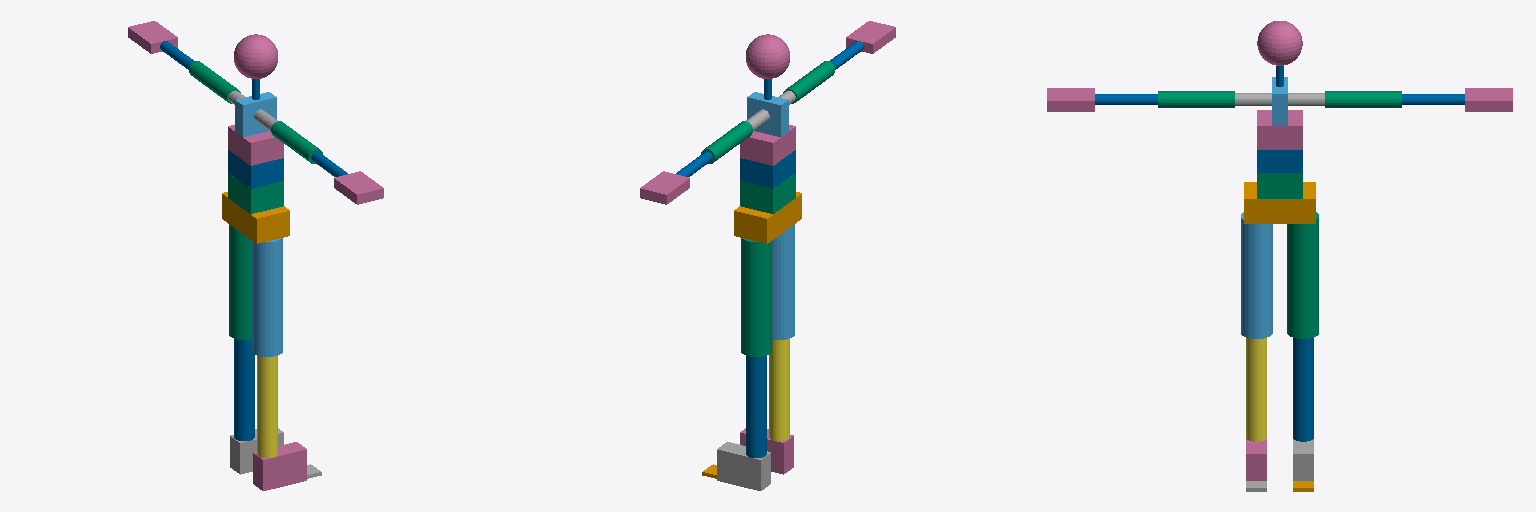
--- Facts derived from the render (not from the file) ---
The picture shows the robot from 3 angles, left to right: view 1: azimuth 30°, elevation 25°; view 2: azimuth 150°, elevation 25°; view 3: azimuth 270°, elevation 25°; orthographic projection.
Robot: XSensStyleModel_template — 49 links, 48 joints (48 revolute); root link Pelvis; default pose: every joint at zero.
Links seen in each view (by area): view 1: RightUpperLeg, LeftUpperLeg, RightLowerLeg, LeftLowerLeg, RightFoot, Pelvis, Head, T12, L5, L3, T8, RightHand (+4 smaller); view 2: LeftUpperLeg, RightUpperLeg, LeftLowerLeg, RightLowerLeg, LeftFoot, Pelvis, Head, T12, L5, L3, T8, LeftHand (+4 smaller); view 3: RightUpperLeg, LeftUpperLeg, Pelvis, RightLowerLeg, LeftLowerLeg, Head, T12, RightUpperArm, LeftUpperArm, L5, RightHand, LeftHand (+6 smaller).
Boxes of the visible links, <box> form: RightUpperLeg: <box>252,238,282,356</box>; LeftUpperLeg: <box>229,224,251,339</box>; RightLowerLeg: <box>257,356,277,457</box>; LeftLowerLeg: <box>234,339,254,440</box>; RightFoot: <box>253,442,306,490</box>; Pelvis: <box>222,192,289,243</box>; Head: <box>234,34,277,78</box>; T12: <box>228,125,283,165</box>; L5: <box>228,173,283,213</box>; L3: <box>228,150,283,188</box>; T8: <box>235,92,276,136</box>; RightHand: <box>334,171,383,204</box>; LeftUpperLeg: <box>741,238,771,356</box>; RightUpperLeg: <box>772,224,794,339</box>; LeftLowerLeg: <box>746,356,766,457</box>; RightLowerLeg: <box>769,339,789,440</box>; LeftFoot: <box>717,442,770,490</box>; Pelvis: <box>734,192,801,243</box>; Head: <box>746,34,789,78</box>; T12: <box>740,125,795,165</box>; L5: <box>740,173,795,213</box>; L3: <box>740,150,795,188</box>; T8: <box>747,92,788,136</box>; LeftHand: <box>640,171,689,204</box>; RightUpperLeg: <box>1241,212,1272,338</box>; LeftUpperLeg: <box>1287,212,1318,338</box>; Pelvis: <box>1244,182,1315,223</box>; RightLowerLeg: <box>1246,338,1266,441</box>; LeftLowerLeg: <box>1293,338,1313,441</box>; Head: <box>1257,21,1302,65</box>; T12: <box>1257,110,1302,149</box>; RightUpperArm: <box>1158,91,1234,107</box>; LeftUpperArm: <box>1325,91,1401,107</box>; L5: <box>1257,173,1302,198</box>; RightHand: <box>1047,88,1094,111</box>; LeftHand: <box>1465,88,1512,111</box>.
Size in the robot's own frame: 0.28 by 1.63 by 1.73 metres.
Geometry: primitives only (box / cylinder / sphere), no mesh files.

URDF robot description (XSensStyleModel_template):
<robot name="XSensStyleModel_template">
<!--To open this model with Gazebo replace the null masses, inertias and dimensions of the 'fake links f1 and f2'-->
    <!--LINKS-->
	<!--Link base (1)-->
	<link name="Pelvis">
        <inertial>
            <mass value="4.88"/>
			<!--COM origin wrt pHipOrigin-->
            <origin xyz="0           0    0.050194" rpy="0 0 0" />
            <inertia ixx="0.029296" iyy="0.011839" izz="0.033081" ixy="0" ixz="0" iyz="0"/>
        </inertial>

        <visual>
			<!--box origin wrt pHipOrigin-->
            <origin xyz="0           0    0.050194" rpy="0 0 0" />
            <geometry>
                <box size="0.1386     0.24927    0.099515"/>
            </geometry>
        </visual>

        <collision>
			<!--box origin wrt pHipOrigin-->
            <origin xyz="0           0    0.050194" rpy="0 0 0" />
            <geometry>
                <box size="0.1386     0.24927    0.099515"/>
            </geometry>
        </collision>

    </link>
    <!--Chain from (2) to (7)-->
	<link name="L5_f1">
        <inertial>
            <mass value="0"/>
            <origin xyz="0 0 0" rpy="0 0 0" />
            <inertia ixx="0" iyy="0" izz="0" ixy="0" ixz="0" iyz="0"/>
        </inertial>
    </link>
	<link name="L5">
        <inertial>
            <mass value="6.222"/>
			<!--COM origin wrt jL5S1-->
            <origin xyz="0           0     0.04987" rpy="0 0 0" />
            <inertia ixx="0.019063" iyy="0.015119" izz="0.0002671" ixy="0" ixz="0" iyz="0"/>
        </inertial>

        <visual>
			<!--box origin origin wrt jL5S1-->
            <origin xyz="0           0     0.04987" rpy="0 0 0" />
            <geometry>
                <box size="0.1386     0.16376    0.099741"/>
            </geometry>
        </visual>

        <collision>
			<!--box origin origin wrt jL5S1-->
            <origin xyz="0           0     0.04987" rpy="0 0 0" />
            <geometry>
                <box size="0.1386     0.16376    0.099741"/>
            </geometry>
        </collision>
    </link>
	<link name="L3_f1">
        <inertial>
            <mass value="0"/>
            <origin xyz="0 0 0" rpy="0 0 0" />
            <inertia ixx="0" iyy="0" izz="0" ixy="0" ixz="0" iyz="0"/>
        </inertial>
    </link>
	<link name="L3">
        <inertial>
            <mass value="6.222"/>
			<!--COM origin wrt jL4L3-->
            <origin xyz="0           0    0.045056" rpy="0 0 0" />
            <inertia ixx="0.018115" iyy="0.014171" izz="0.023865" ixy="0" ixz="0" iyz="0"/>
        </inertial>

        <visual>
			<!--box origin origin wrt jL4L3-->
            <origin xyz="0           0    0.045056" rpy="0 0 0" />
            <geometry>
                <box size="0.1386     0.16376    0.090113"/>
            </geometry>
        </visual>

        <collision>
			<!--box origin origin wrt jL4L3-->
            <origin xyz="0           0    0.045056" rpy="0 0 0" />
            <geometry>
                <box size="0.1386     0.16376    0.090113"/>
            </geometry>
        </collision>
    </link>
	<link name="T12_f1">
        <inertial>
            <mass value="0"/>
            <origin xyz="0 0 0" rpy="0 0 0" />
            <inertia ixx="0" iyy="0" izz="0" ixy="0" ixz="0" iyz="0"/>
        </inertial>
    </link>
	<link name="T12">
        <inertial>
            <mass value="6.222"/>
			<!--COM origin wrt jL1T12-->
            <origin xyz="0           0    0.045056" rpy="0 0 0" />
            <inertia ixx="0.018115" iyy="0.014171" izz="0.023865" ixy="0" ixz="0" iyz="0"/>
        </inertial>

        <visual>
			<!--box origin origin wrt jL1T12-->
            <origin xyz="0           0    0.045056" rpy="0 0 0" />
            <geometry>
                <box size="0.1386     0.16376    0.090113"/>
            </geometry>
        </visual>

        <collision>
			<!--box origin origin wrt jL1T12-->
            <origin xyz="0           0    0.045056" rpy="0 0 0" />
            <geometry>
                <box size="0.1386     0.16376    0.090113"/>
            </geometry>
        </collision>
    </link>
	<link name="T8_f1">
        <inertial>
            <mass value="0"/>
            <origin xyz="0 0 0" rpy="0 0 0" />
            <inertia ixx="0" iyy="0" izz="0" ixy="0" ixz="0" iyz="0"/>
        </inertial>
    </link>
	<link name="T8_f2">
        <inertial>
            <mass value="0"/>
            <origin xyz="0 0 0" rpy="0 0 0" />
            <inertia ixx="0" iyy="0" izz="0" ixy="0" ixz="0" iyz="0"/>
        </inertial>
    </link>
	<link name="T8">
        <inertial>
            <mass value="2.44"/>
			<!--COM origin wrt jT9T8-->
            <origin xyz="0           0    0.062925" rpy="0 0 0" />
            <inertia ixx="0.0038182" iyy="0.007132" izz="0.0045093" ixy="0" ixz="0" iyz="0"/>
        </inertial>

        <visual>
			<!--box origin wrt jT9T8-->
            <origin xyz="0           0    0.062925" rpy="0 0 0" />
            <geometry>
                <box size="0.1387    0.054218     0.12585"/>
            </geometry>
        </visual>

        <collision>
			<!--box origin wrt jT9T8-->
            <origin xyz="0           0    0.062925" rpy="0 0 0" />
            <geometry>
                <box size="0.1387    0.054218     0.12585"/>
            </geometry>
        </collision>

    </link>
	<link name="Neck_f1">
        <inertial>
            <mass value="0"/>
            <origin xyz="0 0 0" rpy="0 0 0" />
            <inertia ixx="0" iyy="0" izz="0" ixy="0" ixz="0" iyz="0"/>
        </inertial>
    </link>
	<link name="Neck_f2">
        <inertial>
            <mass value="0"/>
            <origin xyz="0 0 0" rpy="0 0 0" />
            <inertia ixx="0" iyy="0" izz="0" ixy="0" ixz="0" iyz="0"/>
        </inertial>
    </link>
	<link name="Neck">
        <inertial>
            <mass value="0.732"/>
			<!--COM origin wrt jT1C7-->
            <origin xyz="0           0    0.041973" rpy="0 0 0" />
            <inertia ixx="0.00056618" iyy="0.00056618" izz="0.00027264" ixy="0" ixz="0" iyz="0"/>
        </inertial>

        <visual>
			<!--box origin wrt jT1C7-->
            <origin xyz="0           0    0.041973" rpy="0 0 0" />
            <geometry>
		<cylinder length="0.083946" radius="0.013647"/>
            </geometry>
        </visual>

        <collision>
			<!--box origin wrt jT1C7-->
            <origin xyz="0           0    0.041973" rpy="0 0 0" />
            <geometry>
                <cylinder length="0.083946" radius="0.013647"/>
            </geometry>
        </collision>
    </link>
	<link name="Head_f1">
        <inertial>
            <mass value="0"/>
            <origin xyz="0 0 0" rpy="0 0 0" />
            <inertia ixx="0" iyy="0" izz="0" ixy="0" ixz="0" iyz="0"/>
        </inertial>
    </link>
	<link name="Head">
        <inertial>
            <mass value="2.196"/>
			<!--COM origin wrt jC1Head-->
            <origin xyz="0           0    0.079896" rpy="0 0 0" />
            <inertia ixx="0.0056072" iyy="0.0056072" izz="0.0056072" ixy="0" ixz="0" iyz="0"/>
        </inertial>

        <visual>
			<!--boc origin wrt jC1Head-->
            <origin xyz="0           0    0.079896" rpy="0 0 0" />
            <geometry>
                <sphere radius="0.079896"/>
            </geometry>
        </visual>

        <collision>
			<!--box origin wrt jC1Head-->
            <origin xyz="0           0    0.079896" rpy="0 0 0" />
            <geometry>
                <sphere radius="0.079896"/>
            </geometry>
        </collision>

    </link>
	<!--Chain from (8) to (11)-->
	<link name="RightShoulder">
        <inertial>
            <mass value="1.891"/>
			<!--COM origin wrt jRightC7Shoulder-->
            <origin xyz="0   -0.064947           0" rpy="0 0 0" />
            <inertia ixx="0.0029192" iyy="0.00052075" izz="0.0029192" ixy="0" ixz="0" iyz="0"/>
        </inertial>

        <visual>
			<!--box origin wrt jRightC7Shoulder. RPY rotated of pi/2.-->
            <origin xyz="0   -0.064947           0" rpy="1.5708 0 0" />
            <geometry>
                <cylinder length="0.12989" radius="0.023468"/>
            </geometry>
        </visual>

        <collision>
			<!--box origin wrt jRightC7Shoulder. RPY rotated of pi/2.-->
            <origin xyz="0   -0.064947           0" rpy="1.5708 0 0" />
            <geometry>
                <cylinder length="0.12989" radius="0.023468"/>
            </geometry>
        </collision>

    </link>
	<link name="RightUpperArm_f1">
        <inertial>
            <mass value="0"/>
            <origin xyz="0 0 0" rpy="0 0 0" />
            <inertia ixx="0" iyy="0" izz="0" ixy="0" ixz="0" iyz="0"/>
        </inertial>
    </link>
	<link name="RightUpperArm_f2">
        <inertial>
            <mass value="0"/>
            <origin xyz="0 0 0" rpy="0 0 0" />
            <inertia ixx="0" iyy="0" izz="0" ixy="0" ixz="0" iyz="0"/>
        </inertial>
    </link>
    <link name="RightUpperArm">
        <inertial>
            <mass value="1.83"/>
			<!--COM origin wrt jRightShoulder-->
            <origin xyz="0    -0.13498           0" rpy="0 0 0" />
            <inertia ixx="0.01151" iyy="0.00079302" izz="0.01151" ixy="0" ixz="0" iyz="0"/>
        </inertial>

        <visual>
			<!--box origin wrt jRightShoulder. RPY rotated of pi/2.-->
            <origin xyz="0    -0.13498           0" rpy="1.5708 0 0" />
            <geometry>
                <cylinder length="0.26995" radius="0.02944"/>
            </geometry>
        </visual>

        <collision>
			<!--box origin wrt jRightShoulder. RPY rotated of pi/2.-->
            <origin xyz="0    -0.13498           0" rpy="1.5708 0 0" />
            <geometry>
                <cylinder length="0.26995" radius="0.02944"/>
            </geometry>
        </collision>

    </link>
	<link name="RightForeArm_f1">
        <inertial>
            <mass value="0"/>
            <origin xyz="0 0 0" rpy="0 0 0" />
            <inertia ixx="0" iyy="0" izz="0" ixy="0" ixz="0" iyz="0"/>
        </inertial>
    </link>
	<link name="RightForeArm">
        <inertial>
            <mass value="1.22"/>
			<!--COM origin wrt jRightElbow-->
            <origin xyz="0    -0.11119           0" rpy="0 0 0" />
            <inertia ixx="0.0051448" iyy="0.00023497" izz="0.0051448" ixy="0" ixz="0" iyz="0"/>
        </inertial>

        <visual>
			<!--box origin wrt jRightElbow. RPY rotated of pi/2.-->
            <origin xyz="0    -0.11119           0" rpy="1.5708 0 0" />
            <geometry>
                <cylinder length="0.22237" radius="0.019626"/>
            </geometry>
        </visual>

        <collision>
			<!--box origin wrt jRightElbow. RPY rotated of pi/2.-->
            <origin xyz="0    -0.11119           0" rpy="1.5708 0 0" />
            <geometry>
                <cylinder length="0.22237" radius="0.019626"/>
            </geometry>
        </collision>

    </link>
	<link name="RightHand_f1">
        <inertial>
            <mass value="0"/>
            <origin xyz="0 0 0" rpy="0 0 0" />
            <inertia ixx="0" iyy="0" izz="0" ixy="0" ixz="0" iyz="0"/>
        </inertial>
    </link>
	<link name="RightHand">
        <inertial>
            <mass value="0.366"/>
			<!--COM origin wrt jRightWrist-->
            <origin xyz="0   -0.083494           0" rpy="0 0 0" />
            <inertia ixx="0.0008975" iyy="0.00042499" izz="0.0012285" ixy="0" ixz="0" iyz="0"/>
        </inertial>

        <visual>
			<!--box origin wrt jRightWrist-->
            <origin xyz="0   -0.083494           0" rpy="0 0 0" />
            <geometry>
                <box size="0.11133     0.16699    0.039253"/>
            </geometry>
        </visual>

        <collision>
			<!--box origin wrt jRightWrist-->
            <origin xyz="0   -0.083494           0" rpy="0 0 0" />
            <geometry>
                <box size="0.11133     0.16699    0.039253"/>
            </geometry>
        </collision>

    </link>
	<!--Chain from (12) to (15)-->
	<link name="LeftShoulder">
        <inertial>
            <mass value="1.891"/>
			<!--COM origin wrt jLeftC7Shoulder-->
            <origin xyz="0    0.064947           0" rpy="0 0 0" />
            <inertia ixx="0.0029192" iyy="0.00052075" izz="0.0029192" ixy="0" ixz="0" iyz="0"/>
        </inertial>

        <visual>
			<!--box origin wrt jLeftC7Shoulder. RPY rotated of pi/2.-->
            <origin xyz="0    0.064947           0" rpy="1.5708 0 0" />
            <geometry>
                <cylinder length="0.12989" radius="0.023468"/>
            </geometry>
        </visual>

        <collision>
			<!--box origin wrt jLeftC7Shoulder. RPY rotated of pi/2.-->
            <origin xyz="0    0.064947           0" rpy="1.5708 0 0" />
            <geometry>
                <cylinder length="0.12989" radius="0.023468"/>
            </geometry>
        </collision>

    </link>
	<link name="LeftUpperArm_f1">
        <inertial>
            <mass value="0"/>
            <origin xyz="0 0 0" rpy="0 0 0" />
            <inertia ixx="0" iyy="0" izz="0" ixy="0" ixz="0" iyz="0"/>
        </inertial>
    </link>
	<link name="LeftUpperArm_f2">
        <inertial>
            <mass value="0"/>
            <origin xyz="0 0 0" rpy="0 0 0" />
            <inertia ixx="0" iyy="0" izz="0" ixy="0" ixz="0" iyz="0"/>
        </inertial>
    </link>
	<link name="LeftUpperArm">
        <inertial>
            <mass value="1.83"/>
			<!--COM origin wrt jLeftShoulder-->
            <origin xyz="0     0.13498           0" rpy="0 0 0" />
            <inertia ixx="0.01151" iyy="0.00079302" izz="0.01151" ixy="0" ixz="0" iyz="0"/>
        </inertial>

        <visual>
			<!--box origin wrt jLeftShoulder. RPY rotated of pi/2.-->
            <origin xyz="0     0.13498           0" rpy="1.5708 0 0" />
            <geometry>
                <cylinder length="0.26995" radius="0.02944"/>
            </geometry>
        </visual>

        <collision>
			<!--box origin wrt jLeftShoulder. RPY rotated of pi/2.-->
            <origin xyz="0     0.13498           0" rpy="1.5708 0 0" />
            <geometry>
                <cylinder length="0.26995" radius="0.02944"/>
            </geometry>
        </collision>

    </link>
	<link name="LeftForeArm_f1">
        <inertial>
            <mass value="0"/>
            <origin xyz="0 0 0" rpy="0 0 0" />
            <inertia ixx="0" iyy="0" izz="0" ixy="0" ixz="0" iyz="0"/>
        </inertial>
    </link>
	<link name="LeftForeArm">
        <inertial>
            <mass value="1.22"/>
			<!--COM origin wrt jLeftElbow-->
            <origin xyz="0     0.11119           0" rpy="0 0 0" />
            <inertia ixx="0.0051448" iyy="0.00023497" izz="0.0051448" ixy="0" ixz="0" iyz="0"/>
        </inertial>

        <visual>
			<!--box origin wrt jLeftElbow. RPY rotated of pi/2.-->
            <origin xyz="0     0.11119           0" rpy="1.5708 0 0" />
            <geometry>
                <cylinder length="0.22237" radius="0.019626"/>
            </geometry>
        </visual>

        <collision>
			<!--box origin wrt jLeftElbow. RPY rotated of pi/2.-->
            <origin xyz="0     0.11119           0" rpy="1.5708 0 0" />
            <geometry>
                <cylinder length="0.22237" radius="0.019626"/>
            </geometry>
        </collision>

    </link>
	<link name="LeftHand_f1">
        <inertial>
            <mass value="0"/>
            <origin xyz="0 0 0" rpy="0 0 0" />
            <inertia ixx="0" iyy="0" izz="0" ixy="0" ixz="0" iyz="0"/>
        </inertial>
    </link>
	<link name="LeftHand">
        <inertial>
            <mass value="0.366"/>
			<!--COM origin wrt jLeftWrist-->
            <origin xyz="0    0.083494           0" rpy="0 0 0" />
            <inertia ixx="0.0008975" iyy="0.00042499" izz="0.0012285" ixy="0" ixz="0" iyz="0"/>
        </inertial>

        <visual>
			<!--COM origin wrt jLeftWrist-->
            <origin xyz="0    0.083494           0" rpy="0 0 0" />
            <geometry>
                <box size="0.11133     0.16699    0.039253"/>
            </geometry>
        </visual>

        <collision>
			<!--COM origin wrt jLeftWrist-->
            <origin xyz="0    0.083494           0" rpy="0 0 0" />
            <geometry>
                <box size="0.11133     0.16699    0.039253"/>
            </geometry>
        </collision>

    </link>
	<!--Chain from (16) to (19)-->
	<link name="RightUpperLeg_f1">
        <inertial>
            <mass value="0"/>
            <origin xyz="0 0 0" rpy="0 0 0" />
            <inertia ixx="0" iyy="0" izz="0" ixy="0" ixz="0" iyz="0"/>
        </inertial>
    </link>
	<link name="RightUpperLeg_f2">
        <inertial>
            <mass value="0"/>
            <origin xyz="0 0 0" rpy="0 0 0" />
            <inertia ixx="0" iyy="0" izz="0" ixy="0" ixz="0" iyz="0"/>
        </inertial>
    </link>
    <link name="RightUpperLeg">
        <inertial>
            <mass value="7.625"/>
			<!--COM origin wrt jRightHip-->
            <origin xyz="0           0    -0.22557" rpy="0 0 0" />
            <inertia ixx="0.13545" iyy="0.13545" izz="0.012254" ixy="0" ixz="0" iyz="0"/>
        </inertial>

        <visual>
			<!--box origin wrt jRightHip-->
            <origin xyz="0           0    -0.22557" rpy="0 0 0" />
            <geometry>
                <cylinder length="0.45113" radius="0.056694"/>
            </geometry>
        </visual>

        <collision>
			<!--box origin wrt jRightHip-->
            <origin xyz="0           0    -0.22557" rpy="0 0 0" />
            <geometry>
                <cylinder length="0.45113" radius="0.056694"/>
            </geometry>
        </collision>

    </link>
	<link name="RightLowerLeg_f1">
        <inertial>
            <mass value="0"/>
            <origin xyz="0 0 0" rpy="0 0 0" />
            <inertia ixx="0" iyy="0" izz="0" ixy="0" ixz="0" iyz="0"/>
        </inertial>
    </link>
    <link name="RightLowerLeg">
        <inertial>
            <mass value="2.2265"/>
			<!--COM origin wrt jRightKnee-->
            <origin xyz="0           0    -0.20314" rpy="0 0 0" />
            <inertia ixx="0.031404" iyy="0.031404" izz="0.001557" ixy="0" ixz="0" iyz="0"/>
        </inertial>

        <visual>
			<!--box origin wrt jRightKnee-->
            <origin xyz="0           0    -0.20314" rpy="0 0 0" />
            <geometry>
                <cylinder length="0.40628" radius="0.037398"/>
            </geometry>
        </visual>

        <collision>
			<!--box origin wrt jRightKnee-->
            <origin xyz="0           0    -0.20314" rpy="0 0 0" />
            <geometry>
                <cylinder length="0.40628" radius="0.037398"/>
            </geometry>
        </collision>

    </link>
	<link name="RightFoot_f1">
        <inertial>
            <mass value="0"/>
            <origin xyz="0 0 0" rpy="0 0 0" />
            <inertia ixx="0" iyy="0" izz="0" ixy="0" ixz="0" iyz="0"/>
        </inertial>
    </link>
	<link name="RightFoot_f2">
        <inertial>
            <mass value="0"/>
            <origin xyz="0 0 0" rpy="0 0 0" />
            <inertia ixx="0" iyy="0" izz="0" ixy="0" ixz="0" iyz="0"/>
        </inertial>
    </link>
    <link name="RightFoot">
        <inertial>
            <mass value="0.793"/>
			<!--COM origin wrt jRightAnkle-->
            <origin xyz="0.050643           0   -0.061735" rpy="0 0 0" />
            <inertia ixx="0.0013771" iyy="0.00317" izz="0.0025323" ixy="0" ixz="0" iyz="0"/>
        </inertial>

        <visual>
			<!--box origin wrt jRightAnkle-->
	    	<origin xyz="0.050643           0   -0.061735" rpy="0 0 0" />
            <geometry>
                <box size="0.1809    0.074795     0.12347"/>
            </geometry>
        </visual>

        <collision>
			<!--box origin wrt jRightAnkle-->
		    <origin xyz="0.050643           0   -0.061735" rpy="0 0 0" />
	            <geometry>
	                <box size="0.1809    0.074795     0.12347"/>
	            </geometry>
        </collision>

    </link>
    <link name="RightToe">
        <inertial>
            <mass value="0.0915"/>
			<!--COM origin wrt jRightBallFoot-->
            <origin xyz="0.029551           0           0" rpy="0 0 0" />
            <inertia ixx="4.419e-05" iyy="2.8167e-05" izz="6.929e-05" ixy="0" ixz="0" iyz="0"/>
        </inertial>

        <visual>
			<!--box origin wrt jRightBallFoot-->
            <origin xyz="0.029551           0           0" rpy="0 0 0" />
            <geometry>
                <box size="0.059101    0.074795    0.014183"/>
            </geometry>
        </visual>

        <collision>
			<!--box origin wrt jRightBallFoot-->
            <origin xyz="0.029551           0           0" rpy="0 0 0" />
            <geometry>
                <box size="0.059101    0.074795    0.014183"/>
            </geometry>
        </collision>
    </link>
	<!--Chain from (20) to (23)-->
	<link name="LeftUpperLeg_f1">
        <inertial>
            <mass value="0"/>
            <origin xyz="0 0 0" rpy="0 0 0" />
            <inertia ixx="0" iyy="0" izz="0" ixy="0" ixz="0" iyz="0"/>
        </inertial>
    </link>
	<link name="LeftUpperLeg_f2">
        <inertial>
            <mass value="0"/>
            <origin xyz="0 0 0" rpy="0 0 0" />
            <inertia ixx="0" iyy="0" izz="0" ixy="0" ixz="0" iyz="0"/>
        </inertial>
    </link>
    <link name="LeftUpperLeg">
        <inertial>
            <mass value="7.625"/>
			<!--COM origin wrt jLeftHip-->
            <origin xyz="0           0    -0.22557" rpy="0 0 0" />
            <inertia ixx="0.13545" iyy="0.13545" izz="0.012254" ixy="0" ixz="0" iyz="0"/>
        </inertial>

        <visual>
			<!--box origin wrt jLeftHip-->
            <origin xyz="0           0    -0.22557" rpy="0 0 0" />
            <geometry>
                <cylinder length="0.45113" radius="-0.056694"/>
            </geometry>
        </visual>

        <collision>
			<!--box origin wrt jLeftHip-->
            <origin xyz="0           0    -0.22557" rpy="0 0 0" />
            <geometry>
                <cylinder length="0.45113" radius="-0.056694"/>
            </geometry>
        </collision>

    </link>
	<link name="LeftLowerLeg_f1">
        <inertial>
            <mass value="0"/>
            <origin xyz="0 0 0" rpy="0 0 0" />
            <inertia ixx="0" iyy="0" izz="0" ixy="0" ixz="0" iyz="0"/>
        </inertial>
    </link>
	<link name="LeftLowerLeg">
        <inertial>
            <mass value="2.2265"/>
			<!--COM origin wrt jLeftKnee-->
            <origin xyz="0           0    -0.20314" rpy="0 0 0" />
            <inertia ixx="0.031404" iyy="0.031404" izz="0.001557" ixy="0" ixz="0" iyz="0"/>
        </inertial>

        <visual>
			<!--box origin wrt jLeftKnee-->
            <origin xyz="0           0    -0.20314" rpy="0 0 0" />
            <geometry>
		<cylinder length="0.40628" radius="0.037398"/>
            </geometry>
        </visual>

        <collision>
			<!--box origin wrt jLeftKnee-->
            <origin xyz="0           0    -0.20314" rpy="0 0 0" />
            <geometry>
		<cylinder length="0.40628" radius="0.037398"/>
            </geometry>
        </collision>

    </link>
	<link name="LeftFoot_f1">
        <inertial>
            <mass value="0"/>
            <origin xyz="0 0 0" rpy="0 0 0" />
            <inertia ixx="0" iyy="0" izz="0" ixy="0" ixz="0" iyz="0"/>
        </inertial>
    </link>
	<link name="LeftFoot_f2">
        <inertial>
            <mass value="0"/>
            <origin xyz="0 0 0" rpy="0 0 0" />
            <inertia ixx="0" iyy="0" izz="0" ixy="0" ixz="0" iyz="0"/>
        </inertial>
    </link>
    <link name="LeftFoot">
        <inertial>
            <mass value="0.793"/>
			<!--COM origin wrt jLeftAnkle-->
            <origin xyz="0.050643           0   -0.061735" rpy="0 0 0" />
            <inertia ixx="0.0013771" iyy="0.00317" izz="0.0025323" ixy="0" ixz="0" iyz="0"/>
        </inertial>

        <visual>
			<!--box origin wrt jLeftAnkle-->
	   	 	<origin xyz="0.050643           0   -0.061735" rpy="0 0 0" />
            <geometry>
                <box size="0.1809    0.074795     0.12347"/>
            </geometry>
        </visual>

        <collision>
			<!--box origin wrt jLeftAnkle-->
		    <origin xyz="0.050643           0   -0.061735" rpy="0 0 0" />
	            <geometry>
	                <box size="0.1809    0.074795     0.12347"/>
	            </geometry>
        </collision>

    </link>
	<link name="LeftToe">
        <inertial>
            <mass value="0.0915"/>
			<!--COM origin wrt jLeftBallFoot-->
            <origin xyz="0.029551           0           0" rpy="0 0 0" />
            <inertia ixx="4.419e-05" iyy="2.8167e-05" izz="6.929e-05" ixy="0" ixz="0" iyz="0"/>
        </inertial>

        <visual>
			<!--box origin wrt jLeftBallFoot-->
            <origin xyz="0.029551           0           0" rpy="0 0 0" />
            <geometry>
                <box size="0.059101    0.074795    0.014183"/>
            </geometry>
        </visual>

        <collision>
			<!--box origin wrt jLeftBallFoot-->
            <origin xyz="0.029551           0           0" rpy="0 0 0" />
            <geometry>
                <box size="0.059101    0.074795    0.014183"/>
            </geometry>
        </collision>
    </link>


	<!--JOINTS-->
	<!--Chain from (2) to (7)-->
	<joint name="jL5S1_rotx" type="revolute">
        <origin xyz="-8.9e-05           0    0.099951" rpy="0 0 0"/>
        <parent link="Pelvis"/>
        <child link="L5_f1"/>
        <dynamics damping="0.1" friction="0.0"/>
        <limit effort="30" velocity="1.0" lower="-0.610865" upper="0.610865" />
        <axis xyz="1 0 0" />
    </joint>
	<joint name="jL5S1_roty" type="revolute">
        <origin xyz="0 0 0" rpy="0 0 0"/>
        <parent link="L5_f1"/>
        <child link="L5"/>
        <dynamics damping="0.1" friction="0.0"/>
        <limit effort="30" velocity="1.0" lower="-0.523599" upper="1.309" />
        <axis xyz="0 1 0" />
    </joint>
	<joint name="jL4L3_rotx" type="revolute">
        <origin xyz="0.000162           0    0.099741" rpy="0 0 0"/>
        <parent link="L5"/>
        <child link="L3_f1"/>
        <dynamics damping="0.1" friction="0.0"/>
        <limit effort="30" velocity="1.0" lower="-0.610865" upper="0.610865" />
        <axis xyz="1 0 0" />
    </joint>
	<joint name="jL4L3_roty" type="revolute">
        <origin xyz="0 0 0" rpy="0 0 0"/>
        <parent link="L3_f1"/>
        <child link="L3"/>
        <dynamics damping="0.1" friction="0.0"/>
        <limit effort="30" velocity="1.0" lower="-0.523599" upper="1.309" />
        <axis xyz="0 1 0" />
    </joint>
	<joint name="jL1T12_rotx" type="revolute">
        <origin xyz="0           0    0.090113" rpy="0 0 0"/>
        <parent link="L3"/>
        <child link="T12_f1"/>
        <dynamics damping="0.1" friction="0.0"/>
        <limit effort="30" velocity="1.0" lower="-0.610865" upper="0.610865" />
        <axis xyz="1 0 0" />
    </joint>
	<joint name="jL1T12_roty" type="revolute">
        <origin xyz="0 0 0" rpy="0 0 0"/>
        <parent link="T12_f1"/>
        <child link="T12"/>
        <dynamics damping="0.1" friction="0.0"/>
        <limit effort="30" velocity="1.0" lower="-0.523599" upper="1.309" />
        <axis xyz="0 1 0" />
    </joint>
	<joint name="jT9T8_rotx" type="revolute">
        <origin xyz="0           0    0.090113" rpy="0 0 0"/>
        <parent link="T12"/>
        <child link="T8_f1"/>
        <dynamics damping="0.1" friction="0.0"/>
        <limit effort="30" velocity="1.0" lower="-0.349066" upper="0.349066" />
        <axis xyz="1 0 0" />
    </joint>
	<joint name="jT9T8_roty" type="revolute">
        <origin xyz="0 0 0" rpy="0 0 0"/>
        <parent link="T8_f1"/>
        <child link="T8_f2"/>
        <dynamics damping="0.1" friction="0.0"/>
        <limit effort="30" velocity="1.0" lower="-0.261799" upper="0.698132" />
        <axis xyz="0 1 0" />
    </joint>
    <joint name="jT9T8_rotz" type="revolute">
        <origin xyz="0 0 0" rpy="0 0 0"/>
        <parent link="T8_f2"/>
        <child link="T8"/>
        <dynamics damping="0.1" friction="0.0"/>
        <limit effort="30" velocity="1.0" lower="-0.610865" upper="0.610865" />
        <axis xyz="0 0 1" />
    </joint>
	<joint name="jT1C7_rotx" type="revolute">
        <origin xyz="0           0     0.12585" rpy="0 0 0"/>
        <parent link="T8"/>
        <child link="Neck_f1"/>
        <dynamics damping="0.1" friction="0.0"/>
        <limit effort="30" velocity="1.0" lower="-0.610865" upper="0.610865" />
        <axis xyz="1 0 0" />
    </joint>
	<joint name="jT1C7_roty" type="revolute">
        <origin xyz="0 0 0" rpy="0 0 0"/>
        <parent link="Neck_f1"/>
        <child link="Neck_f2"/>
        <dynamics damping="0.1" friction="0.0"/>
        <limit effort="30" velocity="1.0" lower="-0.959931" upper="1.5708" />
        <axis xyz="0 1 0" />
    </joint>
    <joint name="jT1C7_rotz" type="revolute">
        <origin xyz="0 0 0" rpy="0 0 0"/>
        <parent link="Neck_f2"/>
        <child link="Neck"/>
        <dynamics damping="0.1" friction="0.0"/>
        <limit effort="30" velocity="1.0" lower="-1.22173" upper="1.22173" />
        <axis xyz="0 0 1" />
    </joint>
	<joint name="jC1Head_rotx" type="revolute">
        <origin xyz="0.000384           0    0.083946" rpy="0 0 0"/>
        <parent link="Neck"/>
        <child link="Head_f1"/>
        <dynamics damping="0.1" friction="0.0"/>
        <limit effort="30" velocity="1.0" lower="-0.610865" upper="0.610865" />
        <axis xyz="1 0 0" />
    </joint>
	<joint name="jC1Head_roty" type="revolute">
        <origin xyz="0 0 0" rpy="0 0 0"/>
        <parent link="Head_f1"/>
        <child link="Head"/>
        <dynamics damping="0.1" friction="0.0"/>
        <limit effort="30" velocity="1.0" lower="-0.436332" upper="0.174533" />
        <axis xyz="0 1 0" />
    </joint>
	<!--Chain from (8) to (11)-->
	<joint name="jRightC7Shoulder_rotx" type="revolute">
        <origin xyz="0   -0.027109    0.070322" rpy="0 0 0"/>
        <parent link="T8"/>
        <child link="RightShoulder"/>
        <dynamics damping="0.1" friction="0.0"/>
        <limit effort="30" velocity="1.0" lower="-0.0872665" upper="0.785398" />
        <axis xyz="1 0 0" />
    </joint>
	<joint name="jRightShoulder_rotx" type="revolute">
        <origin xyz="0    -0.12989           0" rpy="0 0 0"/>
        <parent link="RightShoulder"/>
        <child link="RightUpperArm_f1"/>
        <dynamics damping="0.1" friction="0.0"/>
        <limit effort="30" velocity="1.0" lower="-2.35619" upper="1.5708" />
        <axis xyz="1 0 0" />
    </joint>
	<joint name="jRightShoulder_roty" type="revolute">
        <origin xyz="0 0 0" rpy="0 0 0"/>
        <parent link="RightUpperArm_f1"/>
        <child link="RightUpperArm_f2"/>
        <dynamics damping="0.1" friction="0.0"/>
        <limit effort="30" velocity="1.0" lower="-1.5708" upper="1.5708" />
        <axis xyz="0 1 0" />
    </joint>
    <joint name="jRightShoulder_rotz" type="revolute">
        <origin xyz="0 0 0" rpy="0 0 0"/>
        <parent link="RightUpperArm_f2"/>
        <child link="RightUpperArm"/>
        <dynamics damping="0.1" friction="0.0"/>
        <limit effort="30" velocity="1.0" lower="-0.785398" upper="3.14159" />
        <axis xyz="0 0 1" />
    </joint>
	<joint name="jRightElbow_roty" type="revolute">
        <origin xyz="0    -0.26995           0" rpy="0 0 0"/>
        <parent link="RightUpperArm"/>
        <child link="RightForeArm_f1"/>
        <dynamics damping="0.1" friction="0.0"/>
        <limit effort="30" velocity="1.0" lower="-1.5708" upper="1.48353" />
        <axis xyz="0 1 0" />
    </joint>
	<joint name="jRightElbow_rotz" type="revolute">
        <origin xyz="0 0 0" rpy="0 0 0"/>
        <parent link="RightForeArm_f1"/>
        <child link="RightForeArm"/>
        <dynamics damping="0.1" friction="0.0"/>
        <limit effort="30" velocity="1.0" lower="0" upper="2.53073" />
        <axis xyz="0 0 1" />
    </joint>
	<joint name="jRightWrist_rotx" type="revolute">
        <origin xyz="7.3e-05    -0.22237           0" rpy="0 0 0"/>
        <parent link="RightForeArm"/>
        <child link="RightHand_f1"/>
        <dynamics damping="0.1" friction="0.0"/>
        <limit effort="30" velocity="1.0" lower="-0.872665" upper="1.0472" />
        <axis xyz="1 0 0" />
    </joint>
	<joint name="jRightWrist_rotz" type="revolute">
        <origin xyz="0 0 0" rpy="0 0 0"/>
        <parent link="RightHand_f1"/>
        <child link="RightHand"/>
        <dynamics damping="0.1" friction="0.0"/>
        <limit effort="30" velocity="1.0" lower="-0.523599" upper="0.349066" />
        <axis xyz="0 0 1" />
    </joint>
	<!--Chain from (12) to (15)-->
	<joint name="jLeftC7Shoulder_rotx" type="revolute">
        <origin xyz="0    0.027109    0.070322" rpy="0 0 0"/>
        <parent link="T8"/>
        <child link="LeftShoulder"/>
        <dynamics damping="0.1" friction="0.0"/>
        <limit effort="30" velocity="1.0" lower="-0.0872665" upper="0.785398" />
        <axis xyz="1 0 0" />
    </joint>
	<joint name="jLeftShoulder_rotx" type="revolute">
        <origin xyz="0     0.12989           0" rpy="0 0 0"/>
        <parent link="LeftShoulder"/>
        <child link="LeftUpperArm_f1"/>
        <dynamics damping="0.1" friction="0.0"/>
        <limit effort="30" velocity="1.0" lower="-1.5708" upper="2.35619" />
        <axis xyz="1 0 0" />
    </joint>
	<joint name="jLeftShoulder_roty" type="revolute">
        <origin xyz="0 0 0" rpy="0 0 0"/>
        <parent link="LeftUpperArm_f1"/>
        <child link="LeftUpperArm_f2"/>
        <dynamics damping="0.1" friction="0.0"/>
        <limit effort="30" velocity="1.0" lower="-1.5708" upper="1.5708" />
        <axis xyz="0 1 0" />
    </joint>
    <joint name="jLeftShoulder_rotz" type="revolute">
        <origin xyz="0 0 0" rpy="0 0 0"/>
        <parent link="LeftUpperArm_f2"/>
        <child link="LeftUpperArm"/>
        <dynamics damping="0.1" friction="0.0"/>
        <limit effort="30" velocity="1.0" lower="-3.14159" upper="0.785398" />
        <axis xyz="0 0 1" />
    </joint>
    <joint name="jLeftElbow_roty" type="revolute">
        <origin xyz="0     0.26995           0" rpy="0 0 0"/>
        <parent link="LeftUpperArm"/>
        <child link="LeftForeArm_f1"/>
        <dynamics damping="0.1" friction="0.0"/>
        <limit effort="30" velocity="1.0" lower="-1.5708" upper="1.48353" />
        <axis xyz="0 1 0" />
    </joint>
    <joint name="jLeftElbow_rotz" type="revolute">
        <origin xyz="0 0 0" rpy="0 0 0"/>
        <parent link="LeftForeArm_f1"/>
        <child link="LeftForeArm"/>
        <dynamics damping="0.1" friction="0.0"/>
        <limit effort="30" velocity="1.0" lower="-2.53073" upper="0" />
        <axis xyz="0 0 1" />
    </joint>
	<joint name="jLeftWrist_rotx" type="revolute">
        <origin xyz="7.3e-05     0.22237           0" rpy="0 0 0"/>
        <parent link="LeftForeArm"/>
        <child link="LeftHand_f1"/>
        <dynamics damping="0.1" friction="0.0"/>
        <limit effort="30" velocity="1.0" lower="-1.0472" upper="0.872665" />
        <axis xyz="1 0 0" />
    </joint>
	<joint name="jLeftWrist_rotz" type="revolute">
        <origin xyz="0 0 0" rpy="0 0 0"/>
        <parent link="LeftHand_f1"/>
        <child link="LeftHand"/>
        <dynamics damping="0.1" friction="0.0"/>
        <limit effort="30" velocity="1.0" lower="-0.349066" upper="0.523599" />
        <axis xyz="0 0 1" />
    </joint>
	<!--Chain from (16) to (19)-->
	<joint name="jRightHip_rotx" type="revolute">
        <origin xyz="4.4e-05   -0.081879    0.000436" rpy="0 0 0"/>
        <parent link="Pelvis"/>
        <child link="RightUpperLeg_f1"/>
        <dynamics damping="0.1" friction="0.0"/>
        <limit effort="30" velocity="1.0" lower="-0.523599" upper="0.785398" />
        <axis xyz="1 0 0" />
    </joint>
	<joint name="jRightHip_roty" type="revolute">
        <origin xyz="0 0 0" rpy="0 0 0"/>
        <parent link="RightUpperLeg_f1"/>
        <child link="RightUpperLeg_f2"/>
        <dynamics damping="0.1" friction="0.0"/>
        <limit effort="30" velocity="1.0" lower="-0.261799" upper="2.0944" />
        <axis xyz="0 1 0" />
    </joint>
    <joint name="jRightHip_rotz" type="revolute">
        <origin xyz="0 0 0" rpy="0 0 0"/>
        <parent link="RightUpperLeg_f2"/>
        <child link="RightUpperLeg"/>
        <dynamics damping="0.1" friction="0.0"/>
        <limit effort="30" velocity="1.0" lower="-0.785398" upper="0.785398" />
        <axis xyz="0 0 1" />
    </joint>
	<joint name="jRightKnee_roty" type="revolute">
        <origin xyz="6.7e-05           0    -0.45113" rpy="0 0 0"/>
        <parent link="RightUpperLeg"/>
        <child link="RightLowerLeg_f1"/>
        <dynamics damping="0.1" friction="0.0"/>
        <limit effort="30" velocity="1.0" lower="0" upper="2.35619" />
        <axis xyz="0 1 0" />
    </joint>
	<joint name="jRightKnee_rotz" type="revolute">
        <origin xyz="0 0 0" rpy="0 0 0"/>
        <parent link="RightLowerLeg_f1"/>
        <child link="RightLowerLeg"/>
        <dynamics damping="0.1" friction="0.0"/>
        <limit effort="30" velocity="1.0" lower="-0.698132" upper="0.523599" />
        <axis xyz="0 0 1" />
    </joint>
	<joint name="jRightAnkle_rotx" type="revolute">
        <origin xyz="0.000289           0    -0.40628" rpy="0 0 0"/>
        <parent link="RightLowerLeg"/>
        <child link="RightFoot_f1"/>
        <dynamics damping="0.1" friction="0.0"/>
        <limit effort="30" velocity="1.0" lower="-0.610865" upper="0.785398" />
        <axis xyz="1 0 0" />
    </joint>
	<joint name="jRightAnkle_roty" type="revolute">
        <origin xyz="0 0 0" rpy="0 0 0"/>
        <parent link="RightFoot_f1"/>
        <child link="RightFoot_f2"/>
        <dynamics damping="0.1" friction="0.0"/>
        <limit effort="30" velocity="1.0" lower="-0.523599" upper="0.872665" />
        <axis xyz="0 1 0" />
    </joint>
    <joint name="jRightAnkle_rotz" type="revolute">
        <origin xyz="0 0 0" rpy="0 0 0"/>
        <parent link="RightFoot_f2"/>
        <child link="RightFoot"/>
        <dynamics damping="0.1" friction="0.0"/>
        <limit effort="30" velocity="1.0" lower="-0.436332" upper="0.872665" />
        <axis xyz="0 0 1" />
    </joint>
	<joint name="jRightBallFoot_roty" type="revolute">
        <origin xyz="0.14109           0    -0.10944" rpy="0 0 0"/>
        <parent link="RightFoot"/>
        <child link="RightToe"/>
        <dynamics damping="0.1" friction="0.0"/>
        <limit effort="30" velocity="1.0" lower="-0.174533" upper="1.5708" />
        <axis xyz="0 1 0" />
    </joint>
	<!--Chain from (20) to (23)-->
	<joint name="jLeftHip_rotx" type="revolute">
        <origin xyz="4.4e-05    0.081879    0.000436" rpy="0 0 0"/>
        <parent link="Pelvis"/>
        <child link="LeftUpperLeg_f1"/>
        <dynamics damping="0.1" friction="0.0"/>
        <limit effort="30" velocity="1.0" lower="-0.523599" upper="0.785398" />
        <axis xyz="1 0 0" />
    </joint>
	<joint name="jLeftHip_roty" type="revolute">
        <origin xyz="0 0 0" rpy="0 0 0"/>
        <parent link="LeftUpperLeg_f1"/>
        <child link="LeftUpperLeg_f2"/>
        <dynamics damping="0.1" friction="0.0"/>
        <limit effort="30" velocity="1.0" lower="-0.261799" upper="2.0944" />
        <axis xyz="0 1 0" />
    </joint>
    <joint name="jLeftHip_rotz" type="revolute">
        <origin xyz="0 0 0" rpy="0 0 0"/>
        <parent link="LeftUpperLeg_f2"/>
        <child link="LeftUpperLeg"/>
        <dynamics damping="0.1" friction="0.0"/>
        <limit effort="30" velocity="1.0" lower="-0.785398" upper="0.785398" />
        <axis xyz="0 0 1" />
    </joint>
	<joint name="jLeftKnee_roty" type="revolute">
        <origin xyz="6.7e-05           0    -0.45113" rpy="0 0 0"/>
        <parent link="LeftUpperLeg"/>
        <child link="LeftLowerLeg_f1"/>
        <dynamics damping="0.1" friction="0.0"/>
        <limit effort="30" velocity="1.0" lower="0" upper="2.35619" />
        <axis xyz="0 1 0" />
    </joint>
    <joint name="jLeftKnee_rotz" type="revolute">
        <origin xyz="0 0 0" rpy="0 0 0"/>
        <parent link="LeftLowerLeg_f1"/>
        <child link="LeftLowerLeg"/>
        <dynamics damping="0.1" friction="0.0"/>
        <limit effort="30" velocity="1.0" lower="-0.523599" upper="0.698132" />
        <axis xyz="0 0 1" />
    </joint>
	<joint name="jLeftAnkle_rotx" type="revolute">
        <origin xyz="0.000289           0    -0.40628" rpy="0 0 0"/>
        <parent link="LeftLowerLeg"/>
        <child link="LeftFoot_f1"/>
        <dynamics damping="0.1" friction="0.0"/>
        <limit effort="30" velocity="1.0" lower="-0.610865" upper="0.785398" />
        <axis xyz="1 0 0" />
    </joint>
	<joint name="jLeftAnkle_roty" type="revolute">
        <origin xyz="0 0 0" rpy="0 0 0"/>
        <parent link="LeftFoot_f1"/>
        <child link="LeftFoot_f2"/>
        <dynamics damping="0.1" friction="0.0"/>
        <limit effort="30" velocity="1.0" lower="-0.523599" upper="0.872665" />
        <axis xyz="0 1 0" />
    </joint>
    <joint name="jLeftAnkle_rotz" type="revolute">
        <origin xyz="0 0 0" rpy="0 0 0"/>
        <parent link="LeftFoot_f2"/>
        <child link="LeftFoot"/>
        <dynamics damping="0.1" friction="0.0"/>
        <limit effort="30" velocity="1.0" lower="-0.872665" upper="0.436332" />
        <axis xyz="0 0 1" />
    </joint>
	<joint name="jLeftBallFoot_roty" type="revolute">
        <origin xyz="0.14109           0    -0.10944" rpy="0 0 0"/>
        <parent link="LeftFoot"/>
        <child link="LeftToe"/>
        <dynamics damping="0.1" friction="0.0"/>
        <limit effort="30" velocity="1.0" lower="-0.174533" upper="1.5708" />
        <axis xyz="0 1 0" />
    </joint>

	<!-- Sensor  1-->
<sensor name="Pelvis_gyro" type="gyroscope">
<parent link="Pelvis"/>
<origin xyz="-0.057002  0.00018219    0.097365" rpy="0.01645     0.94446     -3.0831"/>
</sensor>
<sensor name="Pelvis_accelerometer" type="accelerometer">
<parent link="Pelvis"/>
<origin xyz="-0.057002  0.00018219    0.097365" rpy="0.01645     0.94446     -3.0831"/>
</sensor>
<!-- Sensor  2-->
<sensor name="T8_gyro" type="gyroscope">
<parent link="T8"/>
<origin xyz="0.12949 -6.4868e-05    0.071109" rpy="-0.039462      1.0551    -0.50407"/>
</sensor>
<sensor name="T8_accelerometer" type="accelerometer">
<parent link="T8"/>
<origin xyz="0.12949 -6.4868e-05    0.071109" rpy="-0.039462      1.0551    -0.50407"/>
</sensor>
<!-- Sensor  3-->
<sensor name="Head_gyro" type="gyroscope">
<parent link="Head"/>
<origin xyz="-0.064019 -3.9764e-05    0.070484" rpy="-2.312    -0.14003      1.0131"/>
</sensor>
<sensor name="Head_accelerometer" type="accelerometer">
<parent link="Head"/>
<origin xyz="-0.064019 -3.9764e-05    0.070484" rpy="-2.312    -0.14003      1.0131"/>
</sensor>
<!-- Sensor  4-->
<sensor name="RightShoulder_gyro" type="gyroscope">
<parent link="RightShoulder"/>
<origin xyz="-0.01879   -0.046896   -0.056309" rpy="0.98009    -0.15308     -1.6935"/>
</sensor>
<sensor name="RightShoulder_accelerometer" type="accelerometer">
<parent link="RightShoulder"/>
<origin xyz="-0.01879   -0.046896   -0.056309" rpy="0.98009    -0.15308     -1.6935"/>
</sensor>
<!-- Sensor  5-->
<sensor name="RightUpperArm_gyro" type="gyroscope">
<parent link="RightUpperArm"/>
<origin xyz="-0.018059   -0.090782    0.018145" rpy="0.5067   -0.066057     -1.4519"/>
</sensor>
<sensor name="RightUpperArm_accelerometer" type="accelerometer">
<parent link="RightUpperArm"/>
<origin xyz="-0.018059   -0.090782    0.018145" rpy="0.5067   -0.066057     -1.4519"/>
</sensor>
<!-- Sensor  6-->
<sensor name="RightForeArm_gyro" type="gyroscope">
<parent link="RightForeArm"/>
<origin xyz="0.0016159    -0.18325    0.018553" rpy="0.38757    -0.26216     -1.4723"/>
</sensor>
<sensor name="RightForeArm_accelerometer" type="accelerometer">
<parent link="RightForeArm"/>
<origin xyz="0.0016159    -0.18325    0.018553" rpy="0.38757    -0.26216     -1.4723"/>
</sensor>
<!-- Sensor  7-->
<sensor name="RightHand_gyro" type="gyroscope">
<parent link="RightHand"/>
<origin xyz="-9.6721e-06   -0.050727    0.018557" rpy="-0.29156    -0.10484     -1.6561"/>
</sensor>
<sensor name="RightHand_accelerometer" type="accelerometer">
<parent link="RightHand"/>
<origin xyz="-9.6721e-06   -0.050727    0.018557" rpy="-0.29156    -0.10484     -1.6561"/>
</sensor>
<!-- Sensor  8-->
<sensor name="LeftShoulder_gyro" type="gyroscope">
<parent link="LeftShoulder"/>
<origin xyz="-0.018761    0.046937   -0.056285" rpy="-0.74206    -0.10355     0.73167"/>
</sensor>
<sensor name="LeftShoulder_accelerometer" type="accelerometer">
<parent link="LeftShoulder"/>
<origin xyz="-0.018761    0.046937   -0.056285" rpy="-0.74206    -0.10355     0.73167"/>
</sensor>
<!-- Sensor  9-->
<sensor name="LeftUpperArm_gyro" type="gyroscope">
<parent link="LeftUpperArm"/>
<origin xyz="-0.018053     0.09068    0.018118" rpy="0.56208    0.046993      1.4058"/>
</sensor>
<sensor name="LeftUpperArm_accelerometer" type="accelerometer">
<parent link="LeftUpperArm"/>
<origin xyz="-0.018053     0.09068    0.018118" rpy="0.56208    0.046993      1.4058"/>
</sensor>
<!-- Sensor  10-->
<sensor name="LeftForeArm_gyro" type="gyroscope">
<parent link="LeftForeArm"/>
<origin xyz="0.0017965     0.18323    0.018292" rpy="1.3227    0.002718      1.1618"/>
</sensor>
<sensor name="LeftForeArm_accelerometer" type="accelerometer">
<parent link="LeftForeArm"/>
<origin xyz="0.0017965     0.18323    0.018292" rpy="1.3227    0.002718      1.1618"/>
</sensor>
<!-- Sensor  11-->
<sensor name="LeftHand_gyro" type="gyroscope">
<parent link="LeftHand"/>
<origin xyz="-5.7104e-05    0.050729    0.018494" rpy="1.0123    -0.25884      1.4668"/>
</sensor>
<sensor name="LeftHand_accelerometer" type="accelerometer">
<parent link="LeftHand"/>
<origin xyz="-5.7104e-05    0.050729    0.018494" rpy="1.0123    -0.25884      1.4668"/>
</sensor>
<!-- Sensor  12-->
<sensor name="RightUpperLeg_gyro" type="gyroscope">
<parent link="RightUpperLeg"/>
<origin xyz="0.012833   -0.047931    -0.27012" rpy="-2.8625      1.3565       1.435"/>
</sensor>
<sensor name="RightUpperLeg_accelerometer" type="accelerometer">
<parent link="RightUpperLeg"/>
<origin xyz="0.012833   -0.047931    -0.27012" rpy="-2.8625      1.3565       1.435"/>
</sensor>
<!-- Sensor  13-->
<sensor name="RightLowerLeg_gyro" type="gyroscope">
<parent link="RightLowerLeg"/>
<origin xyz="0.03074    0.007165    -0.13257" rpy="2.9651       1.436      2.9348"/>
</sensor>
<sensor name="RightLowerLeg_accelerometer" type="accelerometer">
<parent link="RightLowerLeg"/>
<origin xyz="0.03074    0.007165    -0.13257" rpy="2.9651       1.436      2.9348"/>
</sensor>
<!-- Sensor  14-->
<sensor name="RightFoot_gyro" type="gyroscope">
<parent link="RightFoot"/>
<origin xyz="0.081809   0.0016163   -0.011406" rpy="0.35932     0.49173    -0.62413"/>
</sensor>
<sensor name="RightFoot_accelerometer" type="accelerometer">
<parent link="RightFoot"/>
<origin xyz="0.081809   0.0016163   -0.011406" rpy="0.35932     0.49173    -0.62413"/>
</sensor>
<!-- Sensor  15-->
<sensor name="LeftUpperLeg_gyro" type="gyroscope">
<parent link="LeftUpperLeg"/>
<origin xyz="0.011564    0.038074    -0.27007" rpy="-2.9744      1.3823     -1.8185"/>
</sensor>
<sensor name="LeftUpperLeg_accelerometer" type="accelerometer">
<parent link="LeftUpperLeg"/>
<origin xyz="0.011564    0.038074    -0.27007" rpy="-2.9744      1.3823     -1.8185"/>
</sensor>
<!-- Sensor  16-->
<sensor name="LeftLowerLeg_gyro" type="gyroscope">
<parent link="LeftLowerLeg"/>
<origin xyz="0.030907  -0.0068014    -0.13266" rpy="3.0601      1.4623      2.2374"/>
</sensor>
<sensor name="LeftLowerLeg_accelerometer" type="accelerometer">
<parent link="LeftLowerLeg"/>
<origin xyz="0.030907  -0.0068014    -0.13266" rpy="3.0601      1.4623      2.2374"/>
</sensor>
<!-- Sensor  17-->
<sensor name="LeftFoot_gyro" type="gyroscope">
<parent link="LeftFoot"/>
<origin xyz="0.082027   -0.001429    -0.01198" rpy="0.2334     0.65187    -0.66795"/>
</sensor>
<sensor name="LeftFoot_accelerometer" type="accelerometer">
<parent link="LeftFoot"/>
<origin xyz="0.082027   -0.001429    -0.01198" rpy="0.2334     0.65187    -0.66795"/>
</sensor>


</robot>
